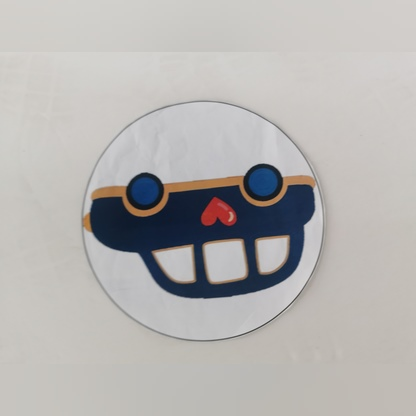car: (90, 163, 322, 310)
